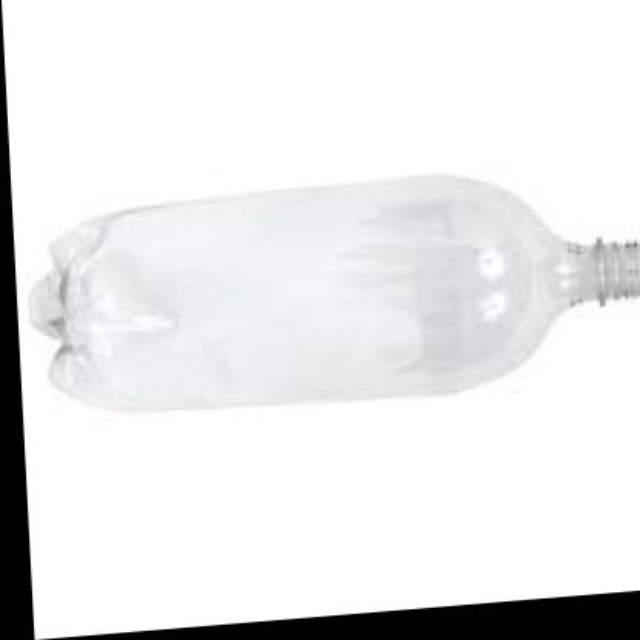trash: (31, 175, 568, 409)
